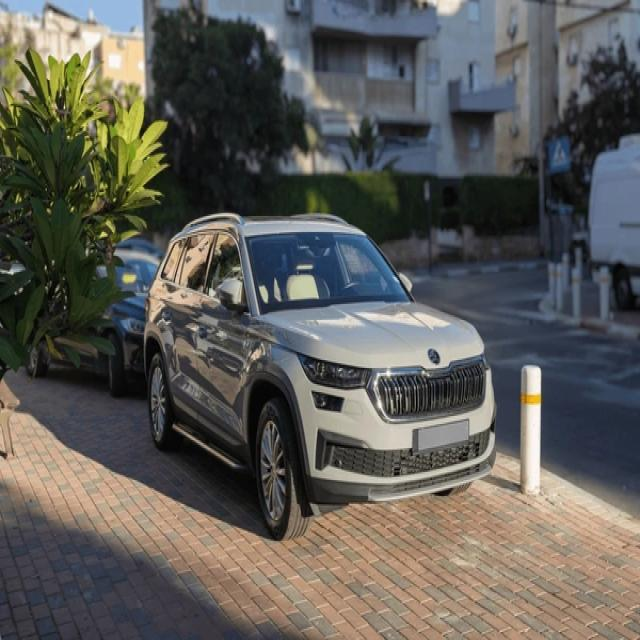skoda: (427, 340, 444, 371)
